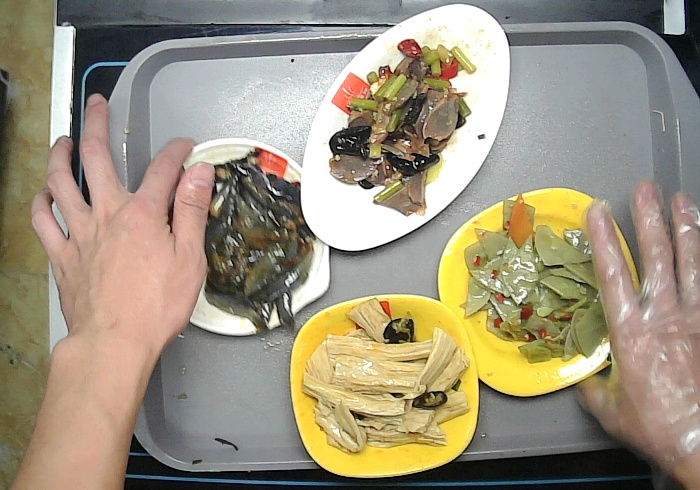SHKJ-Bao_Yu_Pan: (141, 138, 331, 335)
SHKJ-Huang_Se_Cai_Die: (290, 293, 480, 476)
SHKJ-Huang_Se_Si_Fang_Cai_Die: (438, 187, 644, 395)
SHKJ-Yu_Pan: (300, 4, 511, 251)
